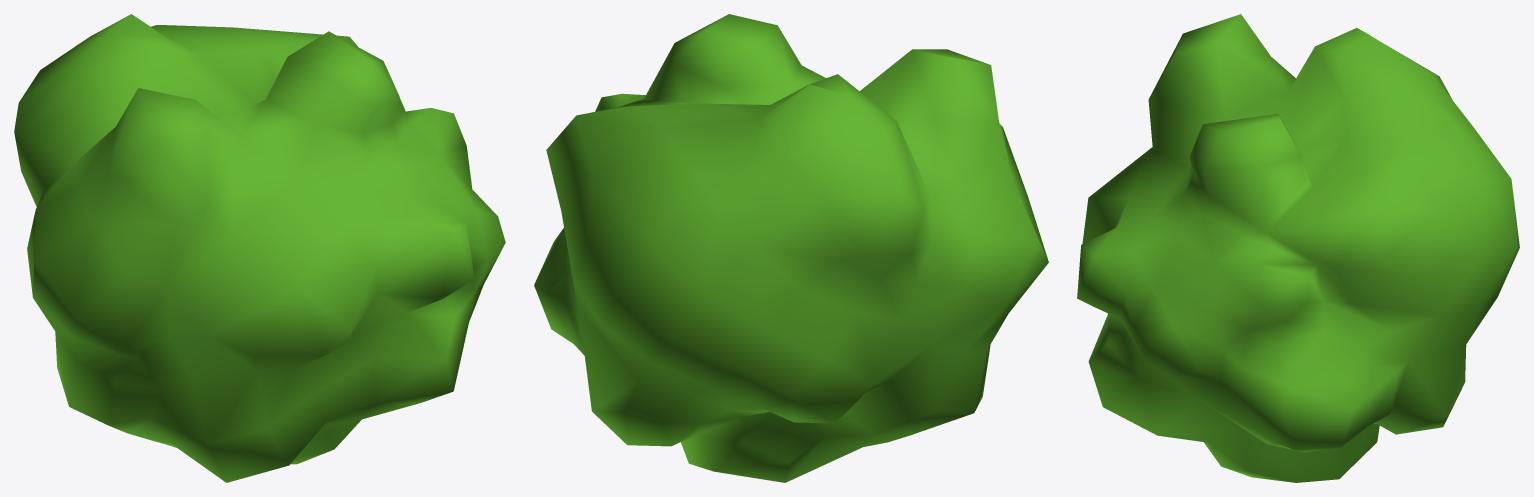
Rendered from p_stickywheel_blob.fbx.
3 views of the same model, side by side, from view 1: azimuth 30°, elevation 25°; view 2: azimuth 150°, elevation 25°; view 3: azimuth 270°, elevation 25° (orthographic). The views are drawn at different scales.
Visible parts, largest first — view 1: Retopo_Mball.003; view 2: Retopo_Mball.003; view 3: Retopo_Mball.003.
Part boxes in pixels (x1,y1,x2,y2): Retopo_Mball.003: (14, 14, 505, 482); Retopo_Mball.003: (534, 14, 1048, 482); Retopo_Mball.003: (1077, 14, 1519, 482).
Size of the model in its own units: 1.22 by 1.1 by 1.1.
